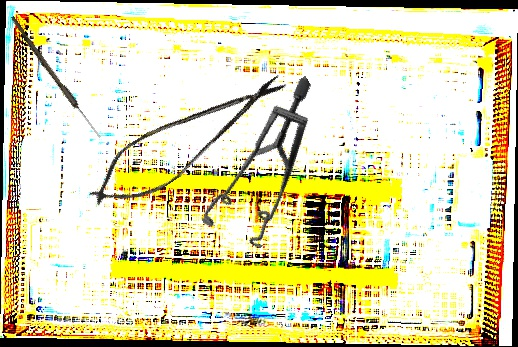Micro Scissor: (74, 53, 300, 226)
Speculum: (165, 75, 370, 267)
Surgical Spoon: (7, 15, 104, 140)
